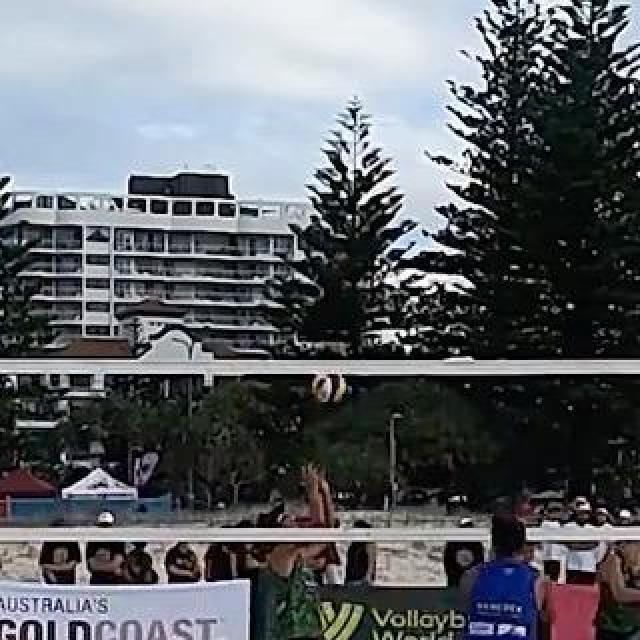volleyball: (312, 375, 344, 403)
